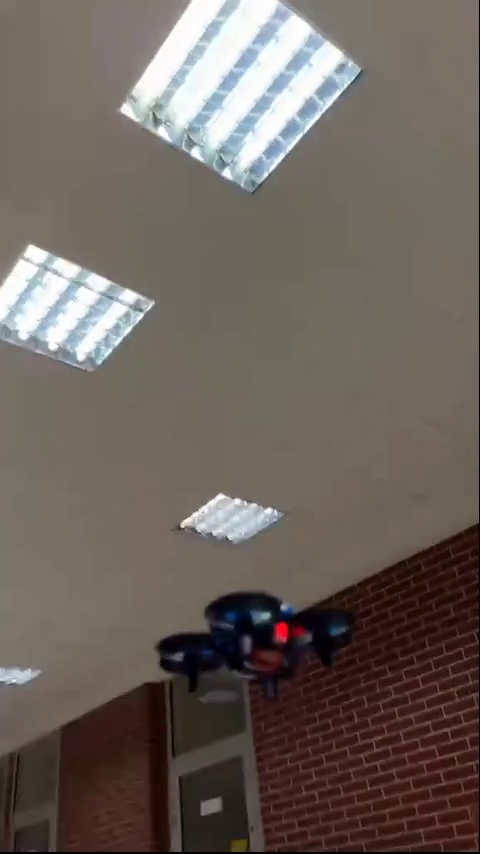drone: (163, 596, 349, 697)
